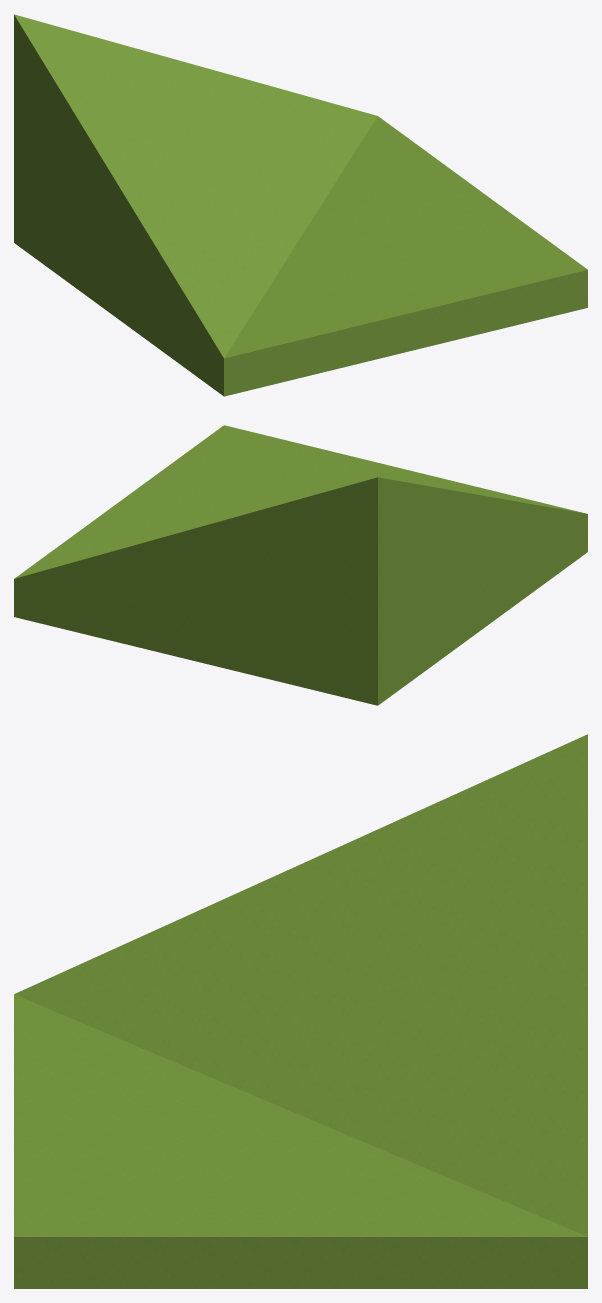
File: low-poly-nature-terrain-corner-tile.glb
3 views of the same model, one above another, from view 1: azimuth 30°, elevation 25°; view 2: azimuth 150°, elevation 25°; view 3: azimuth 270°, elevation 25° (orthographic). The views are drawn at different scales.
Visible parts, largest first — view 1: Terrain grid module 001; view 2: Terrain grid module 001; view 3: Terrain grid module 001.
Part boxes in pixels (x1,y1,x2,y2): Terrain grid module 001: (14, 14, 587, 396); Terrain grid module 001: (14, 425, 587, 705); Terrain grid module 001: (14, 734, 587, 1288).
Size of the model in its own units: 2 by 1.2 by 2.
Materials: 1 (1 with a texture image).
